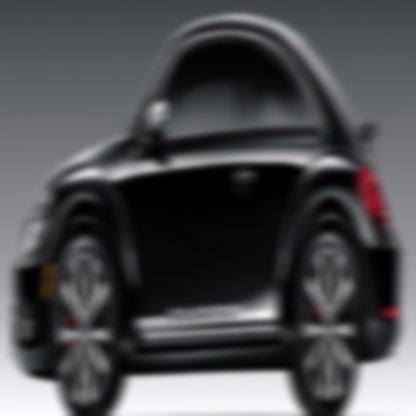Vehicle: (13, 16, 404, 414)
